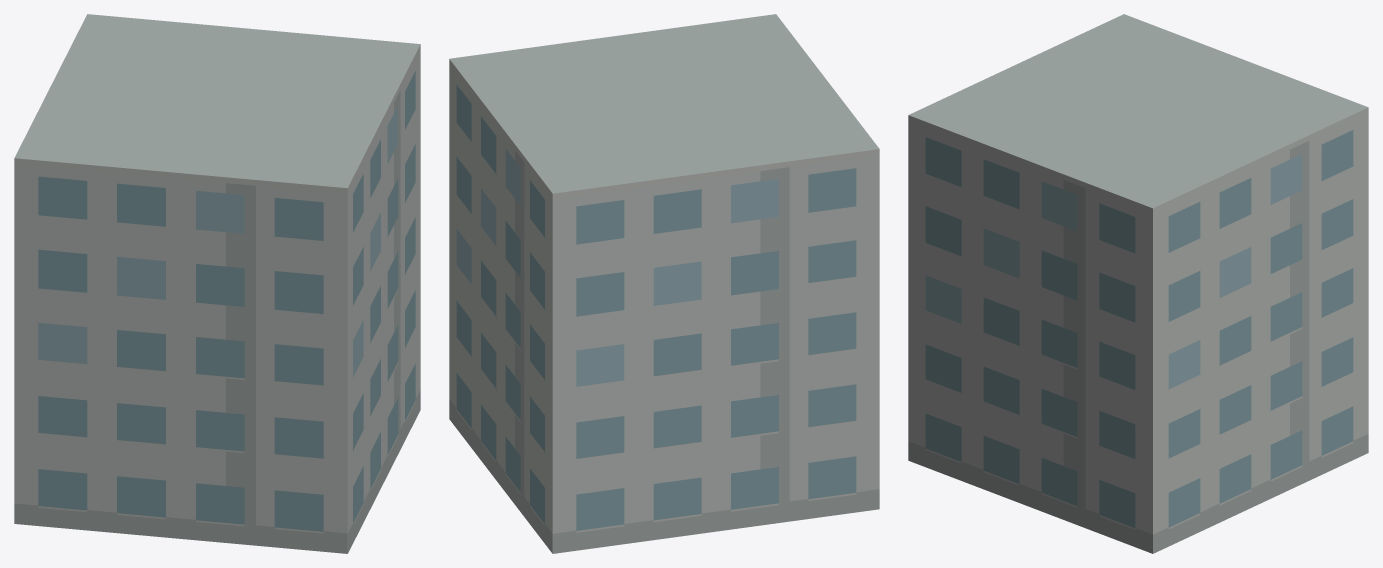
File: residential-51221085-f517-4dd7-b83e-cd1064e136b7.glb
The picture shows the model from 3 angles, left to right: view 1: azimuth 30°, elevation 25°; view 2: azimuth 150°, elevation 25°; view 3: azimuth 270°, elevation 25°; orthographic projection. The views are drawn at different scales.
Parts seen in each view (by area): view 1: residential-51221085-f517-4dd7-b83e-cd1064e136b7.tmp; view 2: residential-51221085-f517-4dd7-b83e-cd1064e136b7.tmp; view 3: residential-51221085-f517-4dd7-b83e-cd1064e136b7.tmp.
Boxes of the visible parts, box(x1,y1,x2,y2) form: residential-51221085-f517-4dd7-b83e-cd1064e136b7.tmp: box(14, 14, 420, 553); residential-51221085-f517-4dd7-b83e-cd1064e136b7.tmp: box(449, 14, 879, 553); residential-51221085-f517-4dd7-b83e-cd1064e136b7.tmp: box(908, 14, 1368, 553).
Size of the model in its own units: 18.41 by 15.25 by 18.42.
